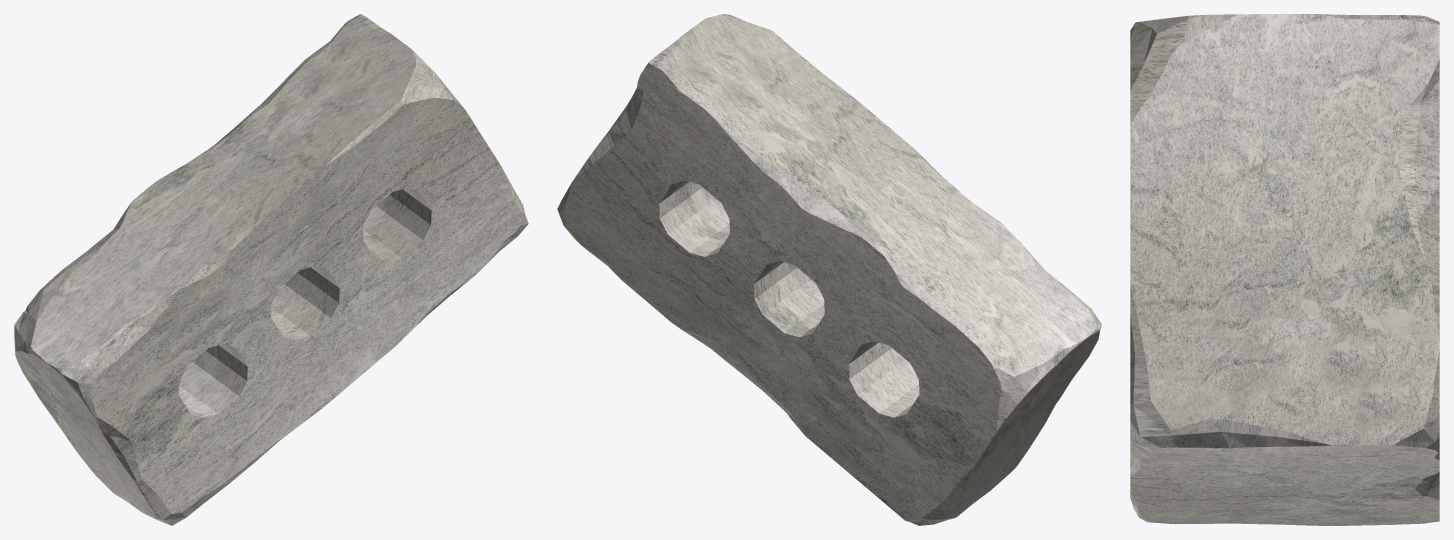
The model's file is Brick.dae.
3 views of the same model, side by side, from view 1: azimuth 30°, elevation 25°; view 2: azimuth 150°, elevation 25°; view 3: azimuth 270°, elevation 25° (orthographic). The views are drawn at different scales.
Visible parts, largest first — view 1: node; view 2: node; view 3: node.
Part boxes in pixels (x1,y1,x2,y2): node: [14, 14, 528, 525]; node: [557, 14, 1101, 525]; node: [1130, 14, 1439, 525].
Size of the model in its own units: 8244 by 6764 by 2500.
Materials: 1 (1 with a texture image).
